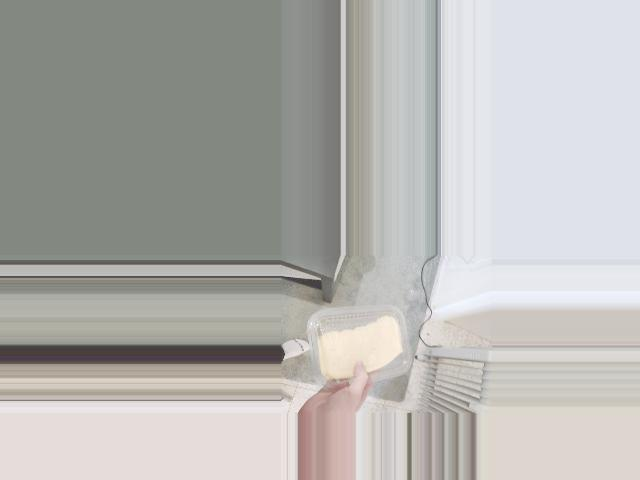cheese: (308, 312, 409, 385)
